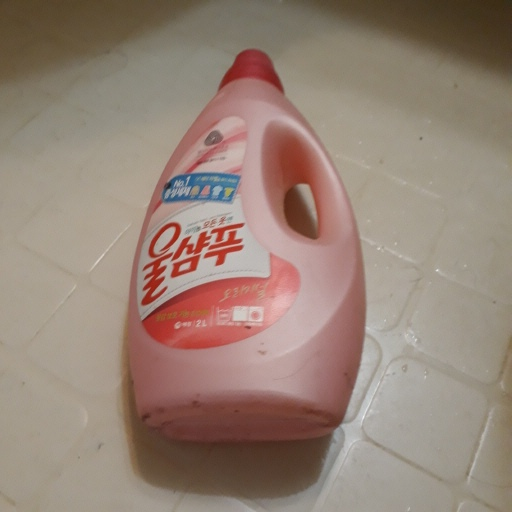Plastic_1: (125, 48, 368, 444)
